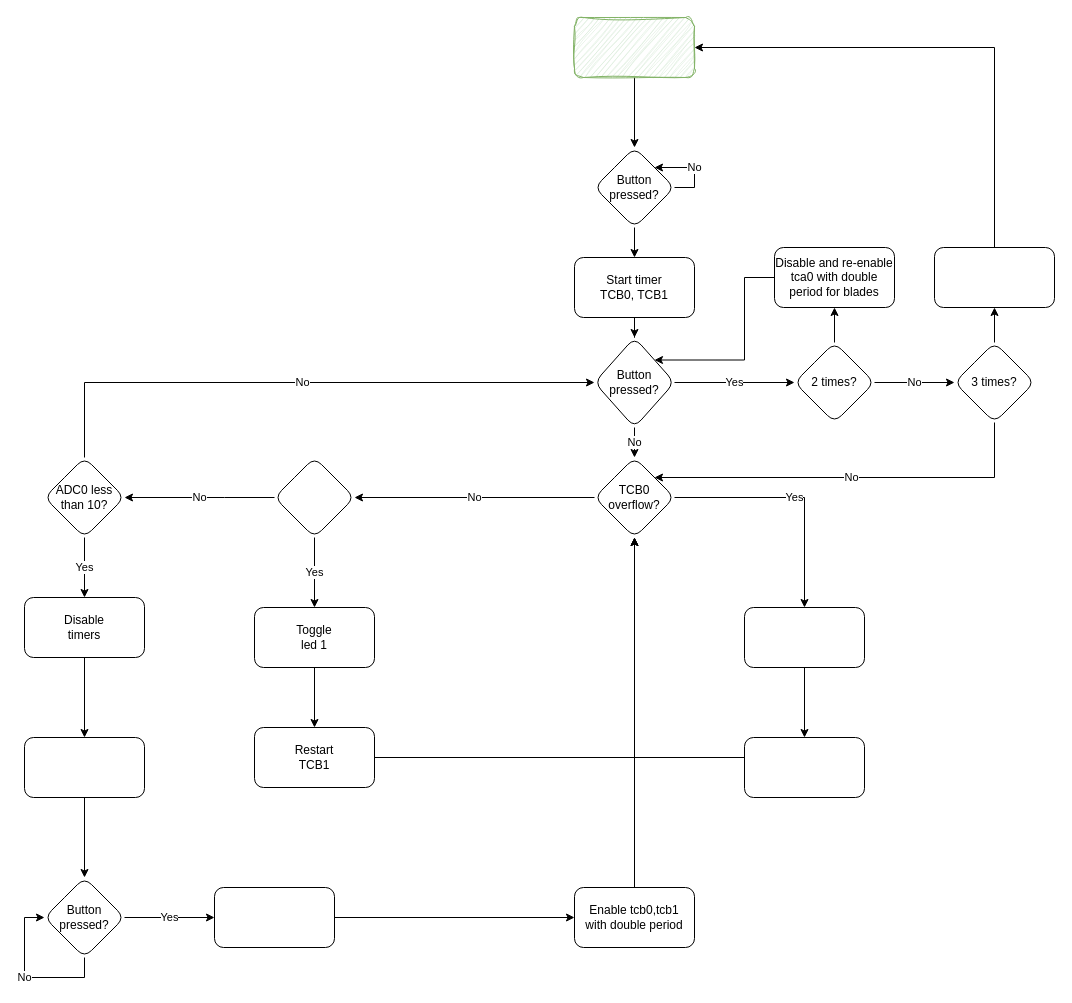
Some shapes in this 1072 by 1003 pixel diagram are drawn without their labels. The box of each missing label's shape, as (x1, y1, x2, y2) in pixels:
Disable adc and tca: (934, 246, 1054, 308)
Disable led 2: (214, 886, 334, 948)
Enable led 2: (24, 736, 144, 798)
Restart TCB0: (744, 736, 864, 798)
Start: (574, 16, 694, 78)
TCB1 overflow?: (274, 456, 354, 538)
Toggle led 0: (744, 606, 864, 668)
